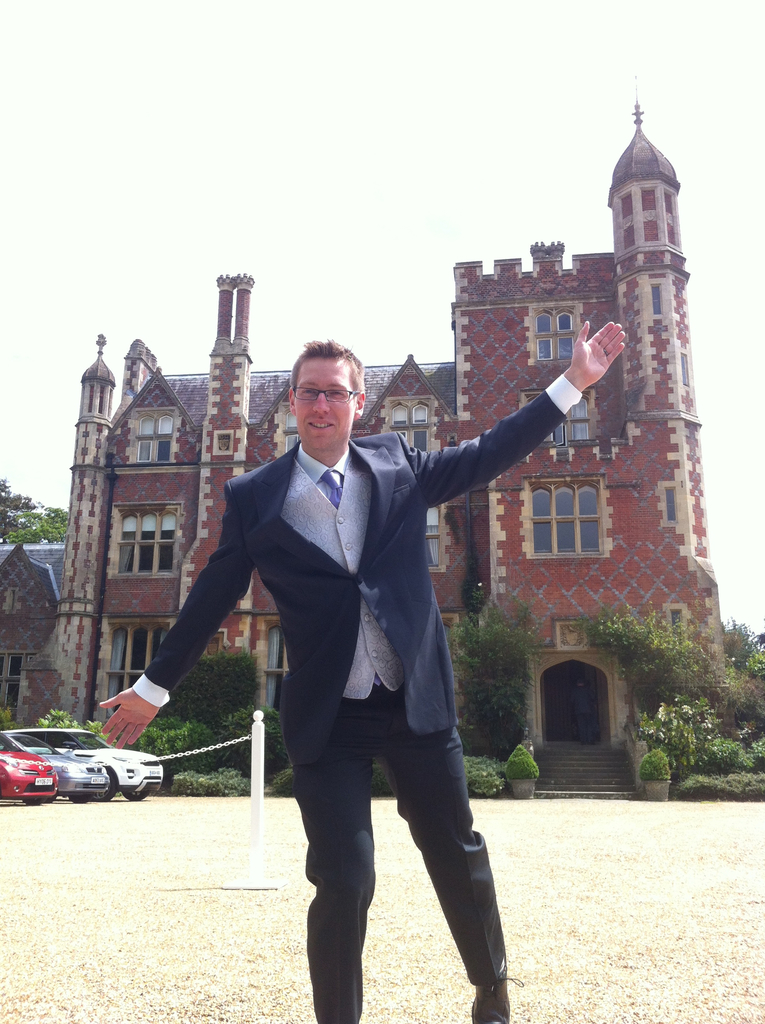Car: (60, 727, 162, 807), (12, 736, 113, 802), (0, 730, 57, 807)
